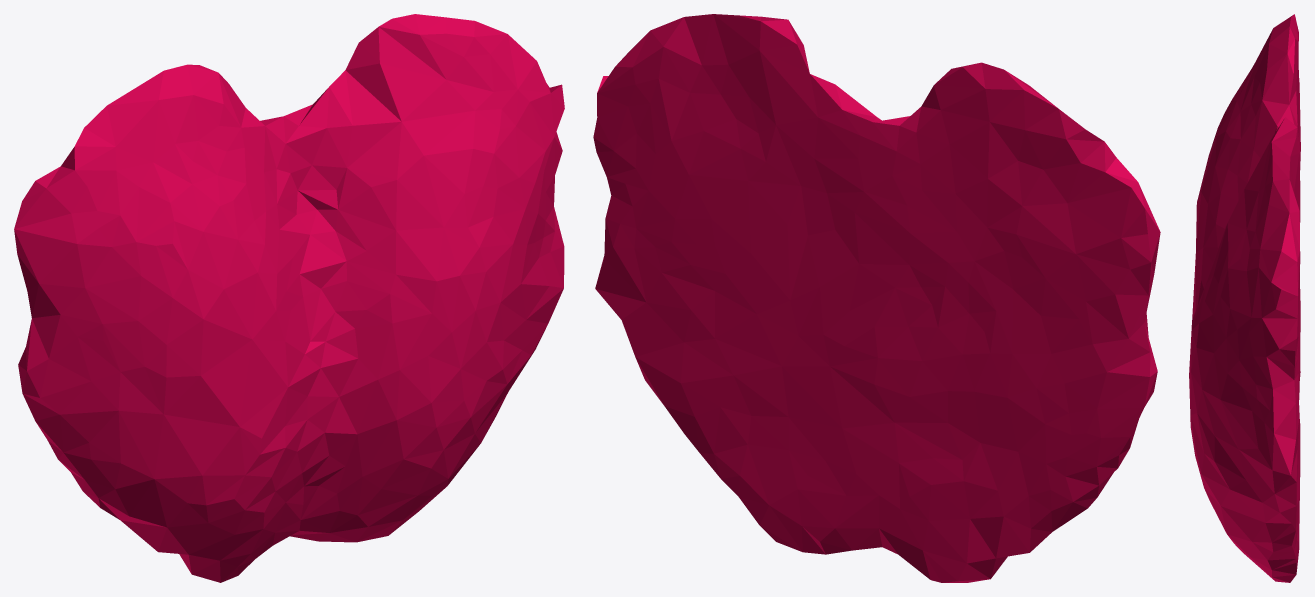
The model's file is 221-10-area 10 of cortex-('1.0000', '0.0000', '0.3804').obj.
The picture shows the model from 3 angles, left to right: view 1: azimuth 30°, elevation 25°; view 2: azimuth 150°, elevation 25°; view 3: azimuth 270°, elevation 25°; orthographic projection. The views are drawn at different scales.
Size of the model in its own units: 79.08 by 71.51 by 15.36.
